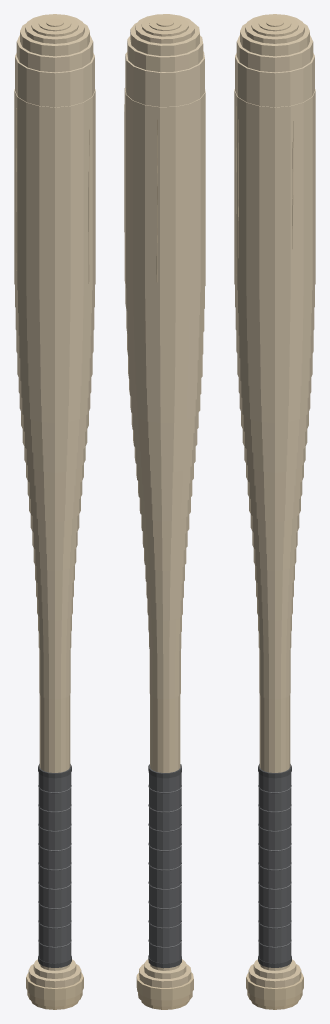
The picture shows the model from 3 angles, left to right: view 1: azimuth 90°, elevation 25°; view 2: azimuth 150°, elevation 25°; view 3: azimuth 270°, elevation 25°; orthographic projection.
Visible parts, largest first — view 1: barrel_main, black_taped_grip, barrel_tip_round_01, continuous_handle_core, barrel_transition_04, barrel_transition_03, barrel_transition_02, barrel_lower_transition, upper_handle, barrel_tip_round_02, shoulder_taper_16, shoulder_taper_15 (+23 smaller); view 2: barrel_main, black_taped_grip, barrel_tip_round_01, continuous_handle_core, barrel_transition_04, barrel_transition_03, barrel_transition_02, barrel_lower_transition, upper_handle, barrel_tip_round_02, shoulder_taper_16, shoulder_taper_15 (+22 smaller); view 3: barrel_main, black_taped_grip, barrel_tip_round_01, continuous_handle_core, barrel_transition_04, barrel_transition_03, barrel_transition_02, barrel_lower_transition, upper_handle, barrel_tip_round_02, shoulder_taper_16, shoulder_taper_15 (+22 smaller).
Boxes of the visible parts, bbox=[...] form: barrel_main: bbox=[14, 89, 95, 300]; black_taped_grip: bbox=[38, 765, 71, 963]; barrel_tip_round_01: bbox=[15, 53, 94, 107]; continuous_handle_core: bbox=[39, 694, 70, 970]; barrel_transition_04: bbox=[15, 286, 94, 323]; barrel_transition_03: bbox=[15, 308, 94, 345]; barrel_transition_02: bbox=[16, 331, 93, 367]; barrel_lower_transition: bbox=[17, 354, 92, 390]; upper_handle: bbox=[39, 649, 70, 699]; barrel_tip_round_02: bbox=[16, 35, 93, 72]; shoulder_taper_16: bbox=[18, 378, 91, 406]; shoulder_taper_15: bbox=[19, 394, 90, 423]; barrel_main: bbox=[124, 88, 205, 300]; black_taped_grip: bbox=[149, 764, 181, 963]; barrel_tip_round_01: bbox=[125, 51, 204, 106]; continuous_handle_core: bbox=[150, 695, 180, 970]; barrel_transition_04: bbox=[125, 286, 204, 322]; barrel_transition_03: bbox=[126, 310, 204, 345]; barrel_transition_02: bbox=[127, 333, 203, 367]; barrel_lower_transition: bbox=[128, 355, 202, 390]; upper_handle: bbox=[149, 649, 180, 699]; barrel_tip_round_02: bbox=[127, 35, 203, 72]; shoulder_taper_16: bbox=[129, 378, 201, 406]; shoulder_taper_15: bbox=[130, 395, 200, 423]; barrel_main: bbox=[234, 89, 315, 300]; black_taped_grip: bbox=[258, 765, 291, 963]; barrel_tip_round_01: bbox=[235, 53, 314, 107]; continuous_handle_core: bbox=[259, 694, 290, 970]; barrel_transition_04: bbox=[235, 286, 314, 323]; barrel_transition_03: bbox=[235, 308, 314, 345]; barrel_transition_02: bbox=[236, 331, 313, 367]; barrel_lower_transition: bbox=[237, 354, 312, 390]; upper_handle: bbox=[259, 649, 290, 699]; barrel_tip_round_02: bbox=[236, 35, 313, 72]; shoulder_taper_16: bbox=[238, 378, 311, 406]; shoulder_taper_15: bbox=[239, 394, 310, 423].
Bounding box in the file's own units: 0.065 × 0.86 × 0.065.
